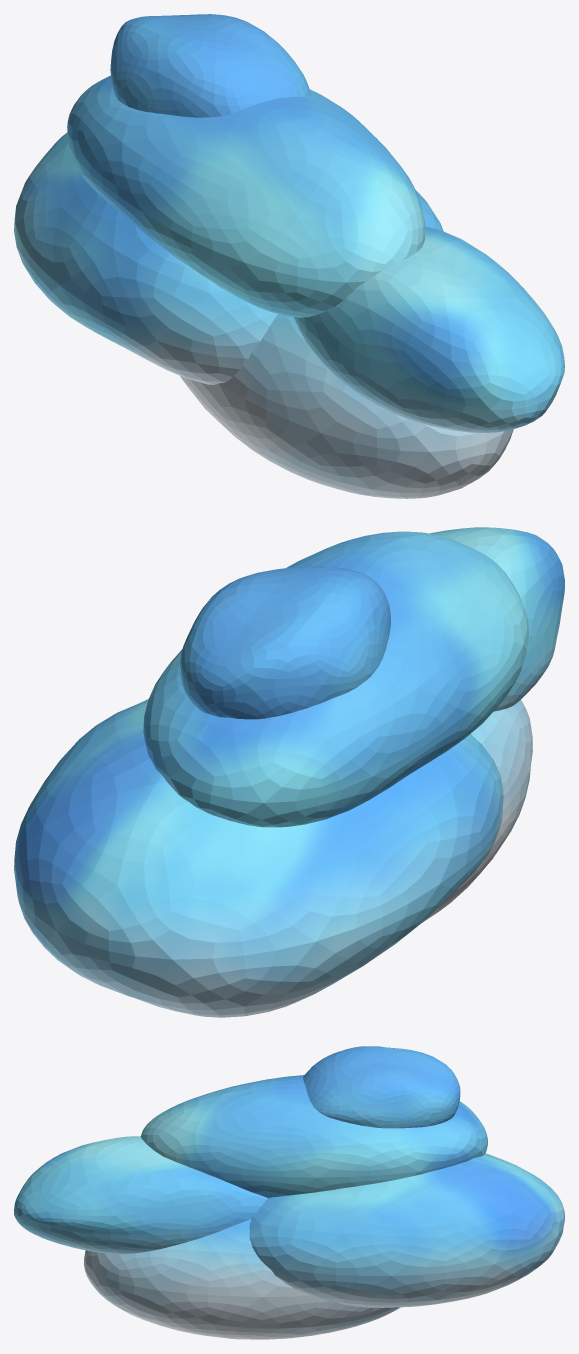
Rendered from Cloud1.fbx.
3 renders of one model, top to bottom at view 1: azimuth 30°, elevation 25°; view 2: azimuth 150°, elevation 25°; view 3: azimuth 270°, elevation 25°, orthographic. The views are drawn at different scales.
Parts seen in each view (by area): view 1: Cloud1; view 2: Cloud1; view 3: Cloud1.
Boxes of the visible parts, x1,y1,x2,y2 form: Cloud1: (14, 14, 564, 498); Cloud1: (14, 527, 564, 1017); Cloud1: (14, 1046, 564, 1339).
Size of the model in its own units: 273 by 298 by 577.
